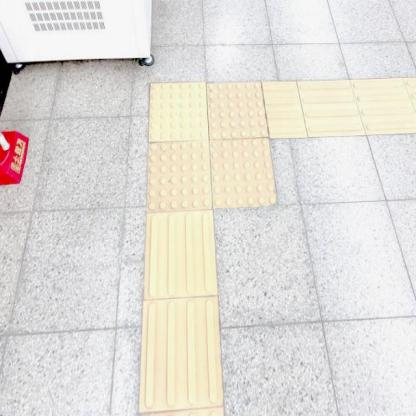podotacti: (99, 37, 320, 295), (141, 210, 224, 416), (271, 80, 415, 138)
